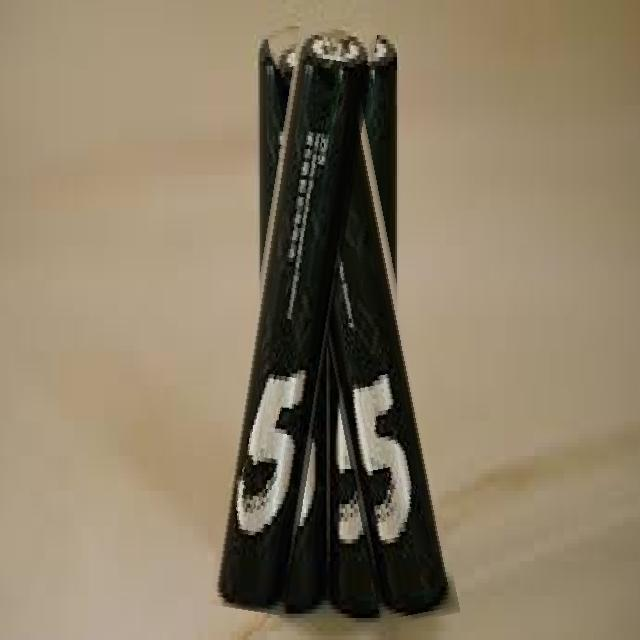Battery: (209, 22, 374, 614), (334, 134, 457, 614), (324, 341, 389, 620), (366, 30, 404, 287), (257, 39, 288, 278)
